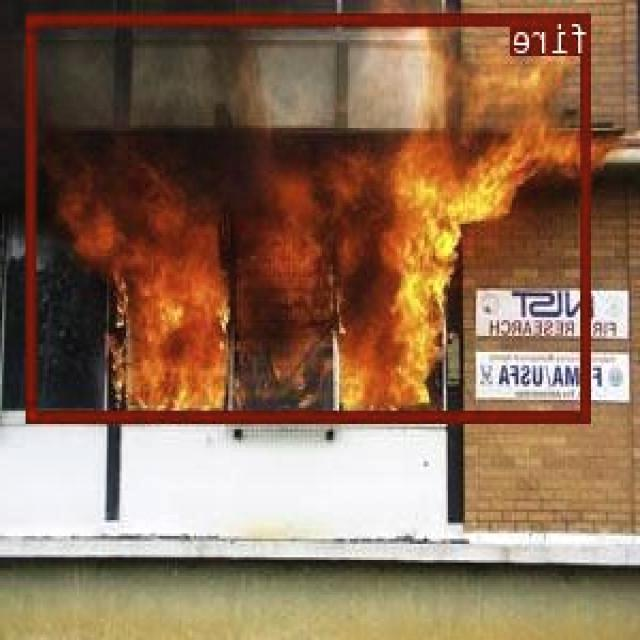fire: (28, 11, 593, 419)
